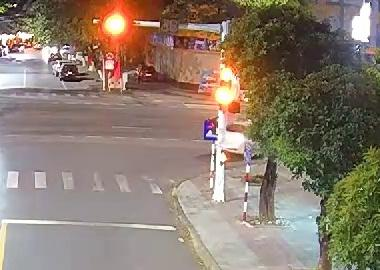stop_line: (3, 219, 175, 230)
yellow_light: (99, 8, 133, 40), (214, 85, 233, 105)
